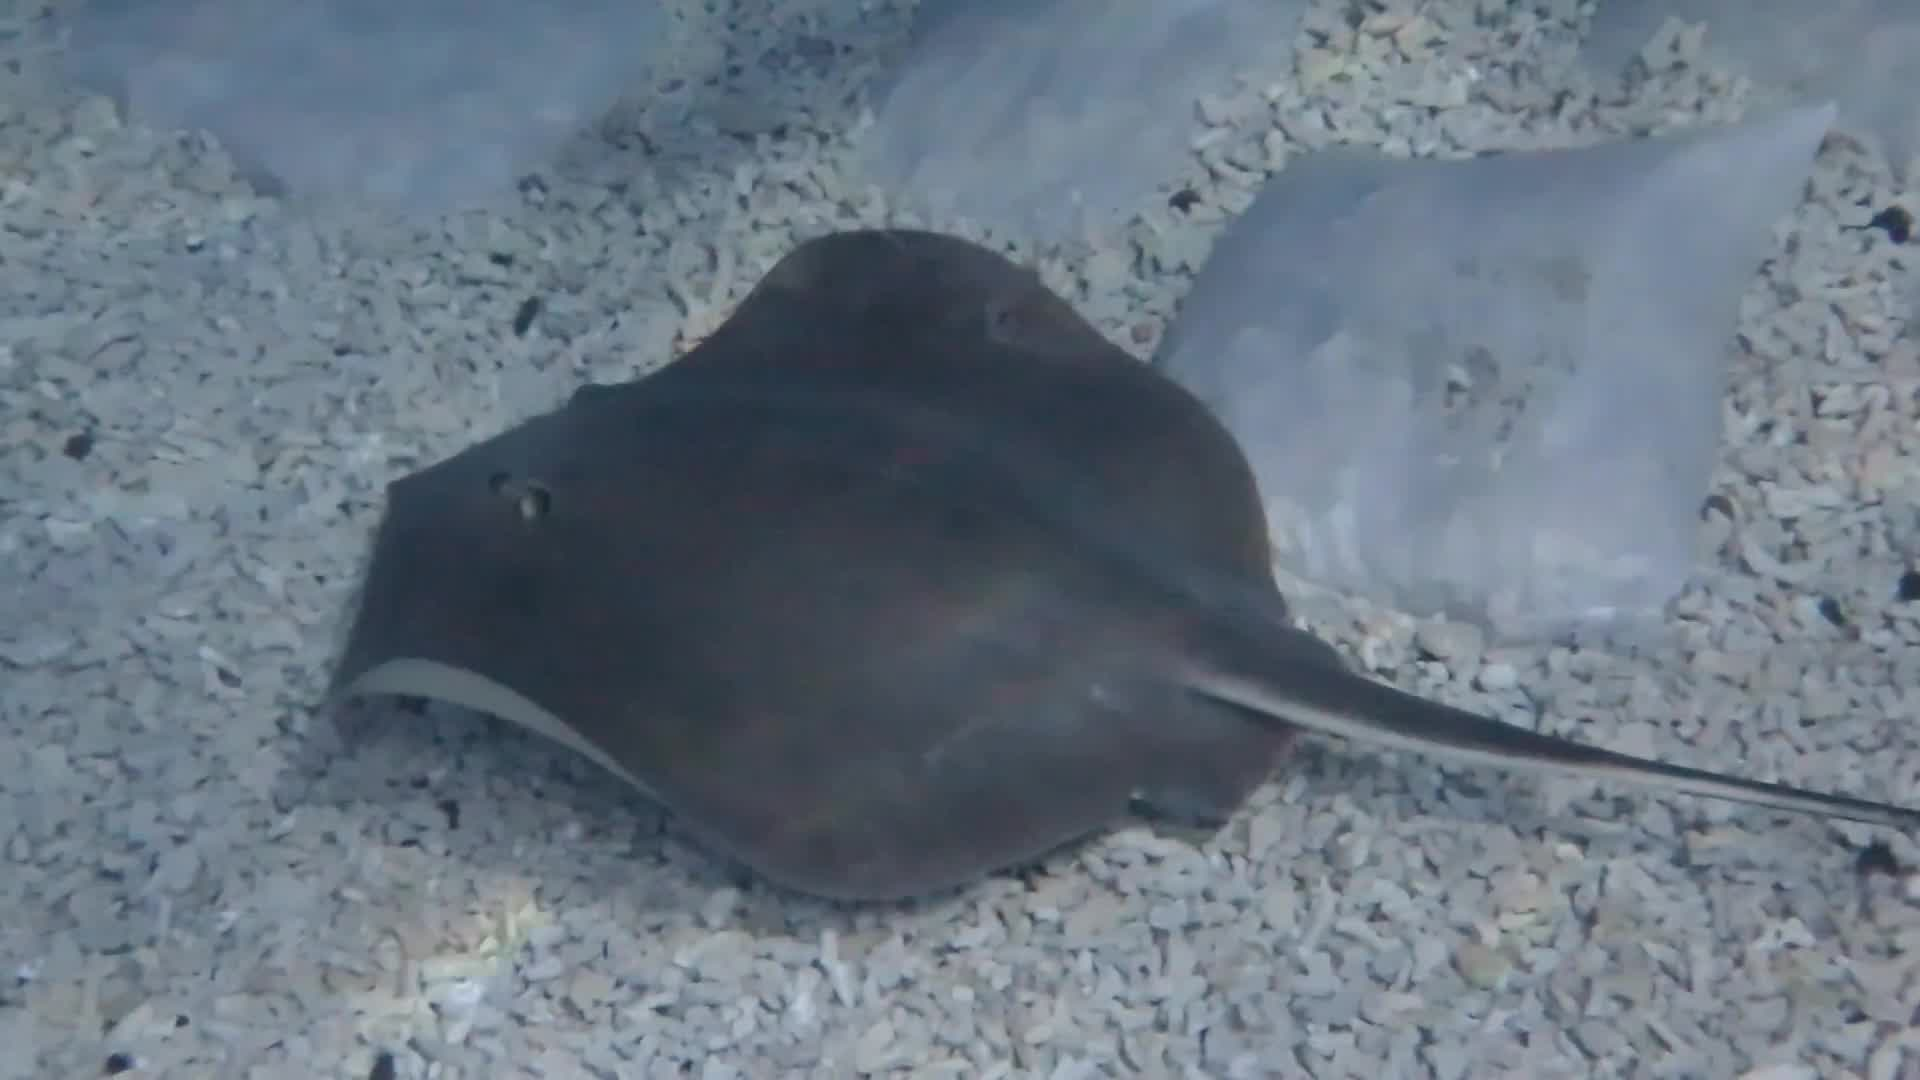Dasyatis bennetti: (251, 132, 1499, 973)
